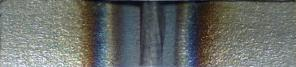soldas: (73, 0, 218, 66)
